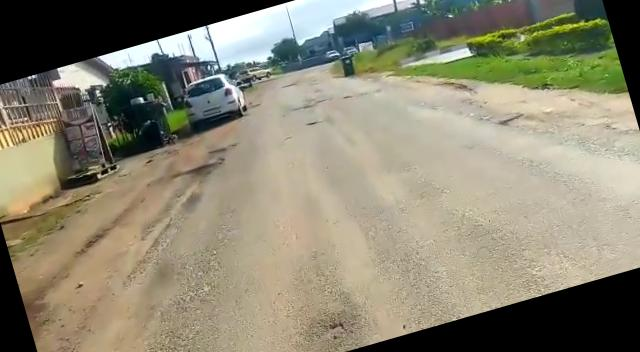pothole: (500, 109, 542, 133)
